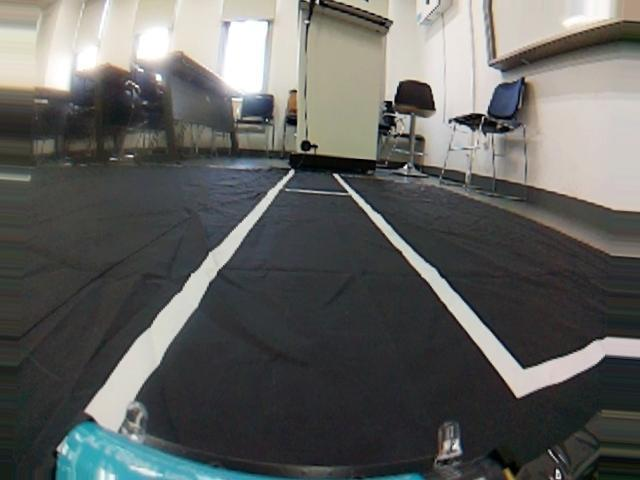straight: (71, 203, 541, 470)
